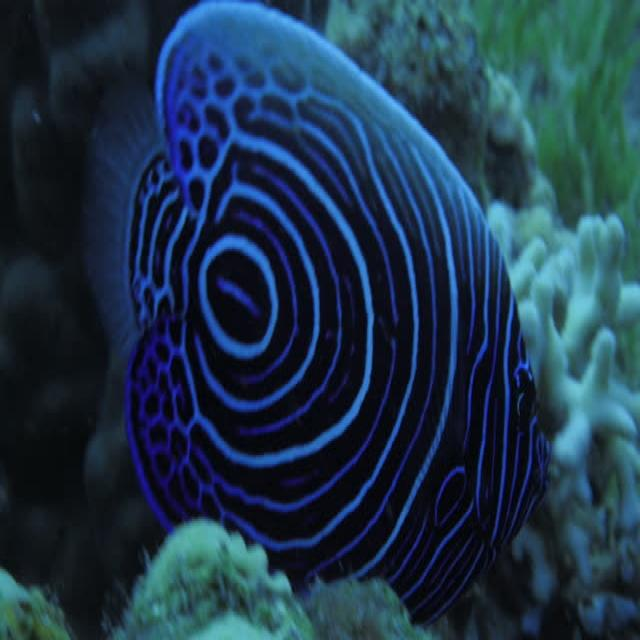AngelFish: (121, 1, 551, 572)
